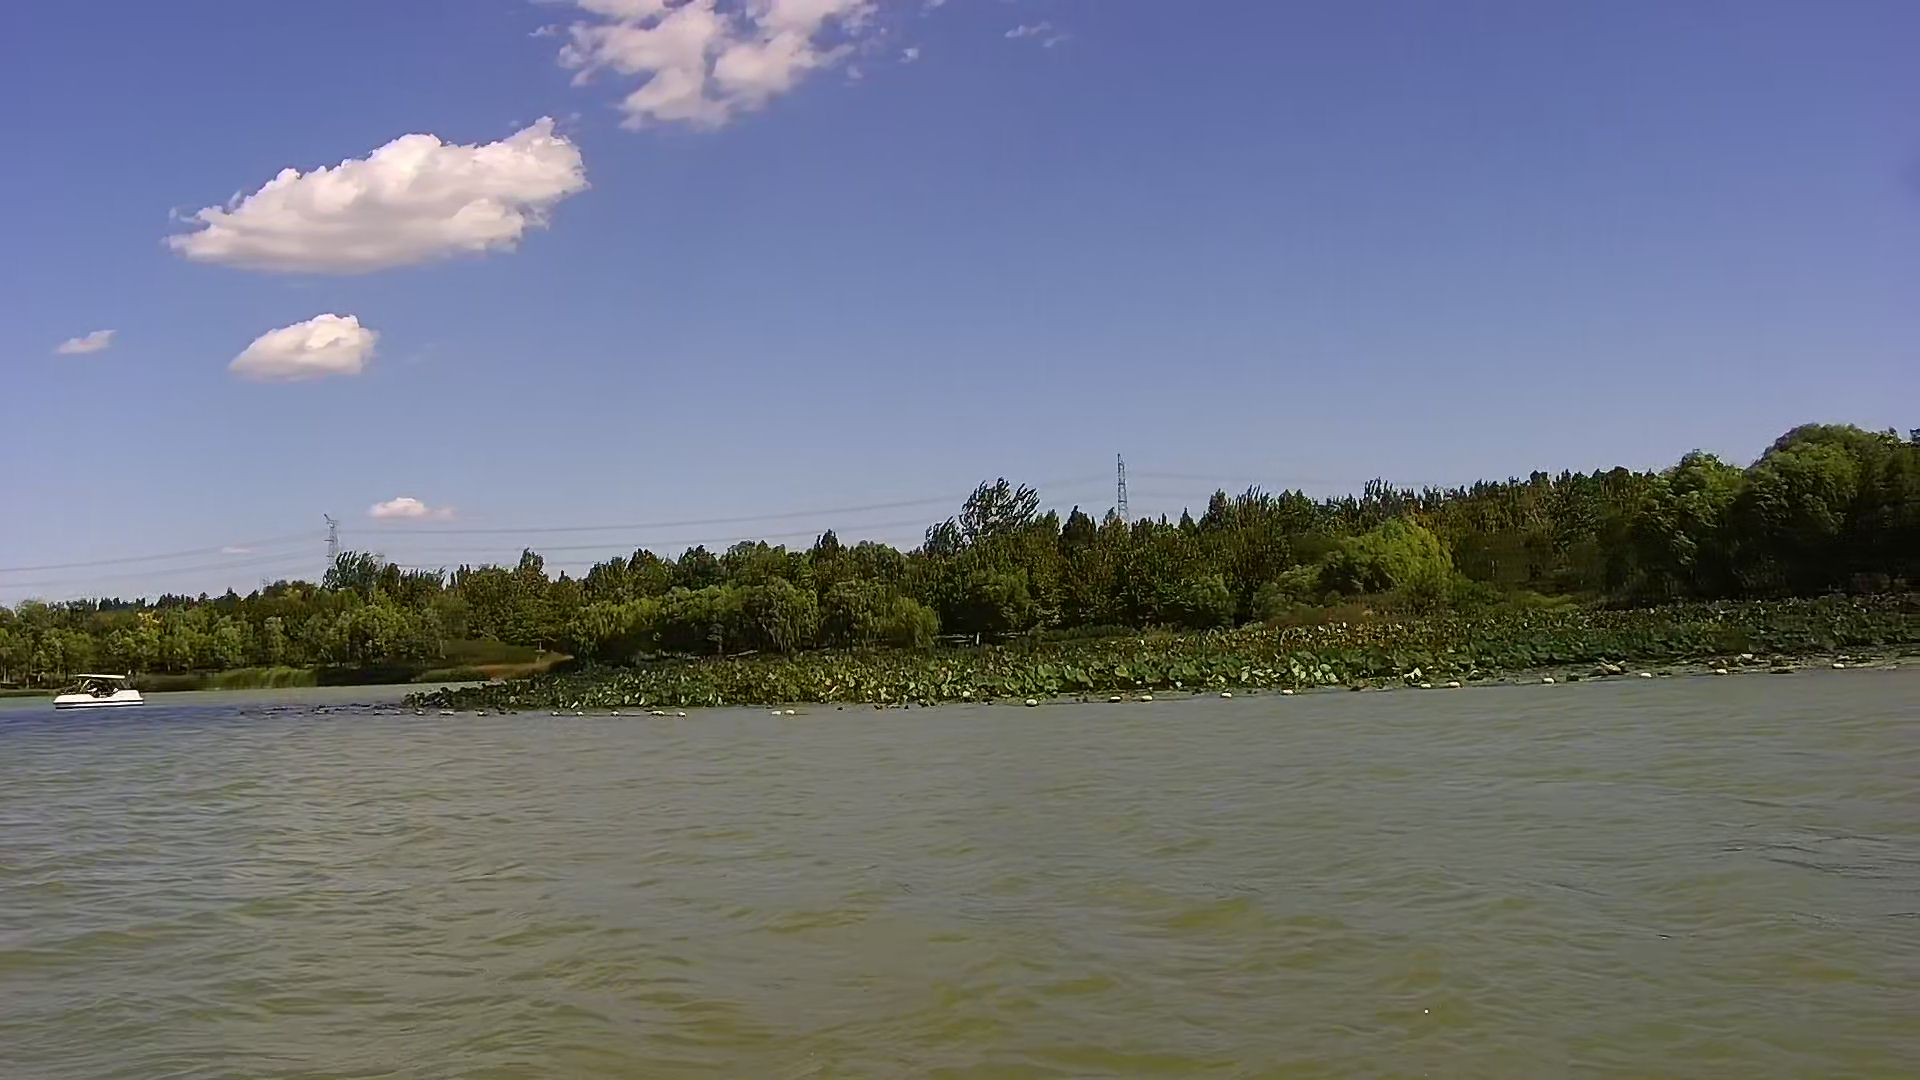boat: (49, 667, 149, 712)
